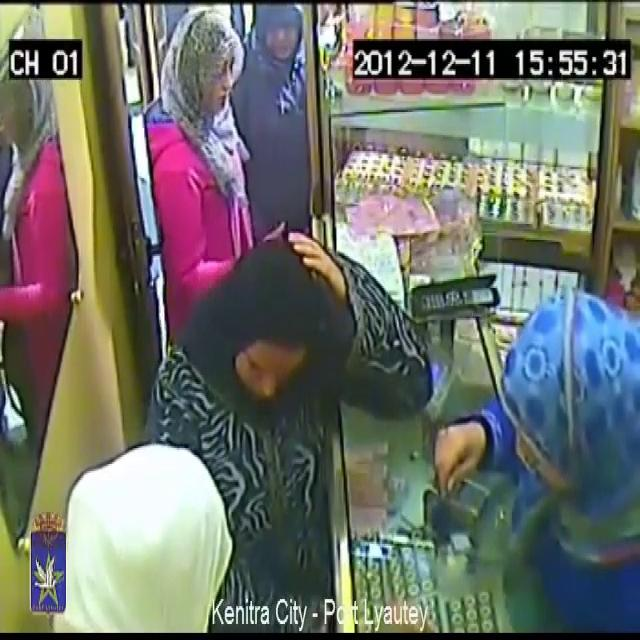normal: (459, 189, 640, 640), (76, 404, 344, 640), (142, 0, 255, 314), (218, 248, 349, 464), (228, 0, 314, 192)
